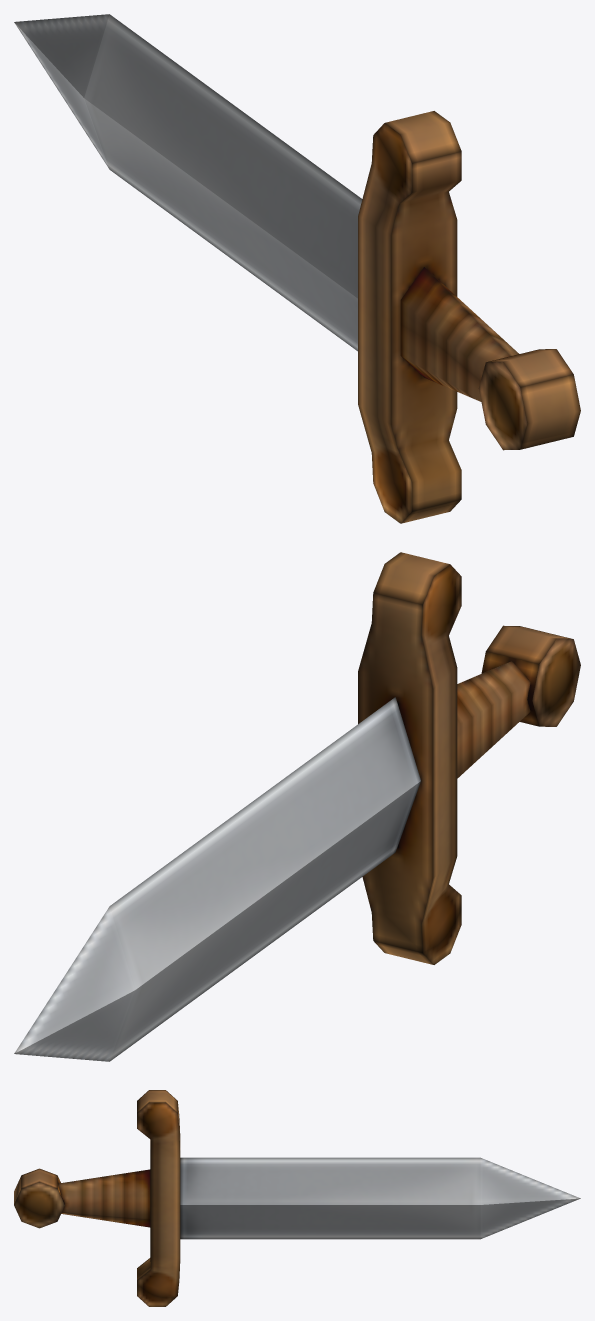
Rendered from sword001.fbx.
3 renders of one model, top to bottom at view 1: azimuth 30°, elevation 25°; view 2: azimuth 150°, elevation 25°; view 3: azimuth 270°, elevation 25°, orthographic. The views are drawn at different scales.
Visible parts, largest first — view 1: sword001; view 2: sword001; view 3: sword001.
Boxes of the visible parts, left/top/right/bottom form: sword001: left=14, top=14, right=580, bottom=523; sword001: left=14, top=552, right=580, bottom=1061; sword001: left=14, top=1090, right=580, bottom=1306.
Size of the model in its own units: 0.0509 by 0.2522 by 0.6346.
